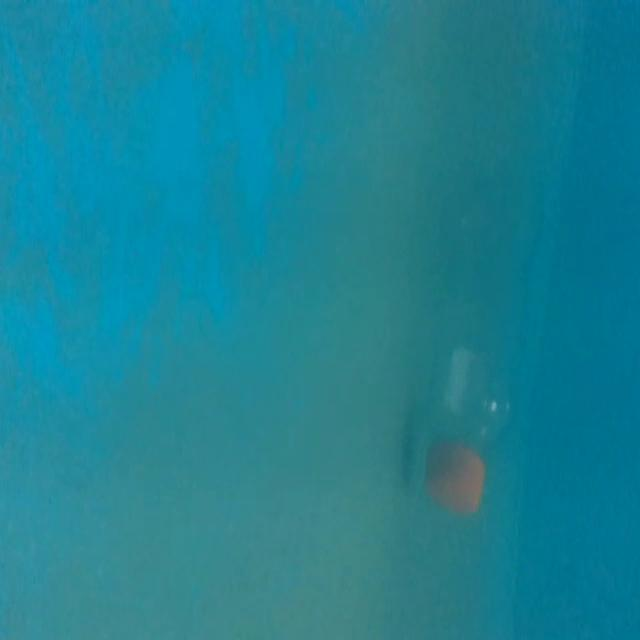plastic bottle: (405, 56, 584, 520)
